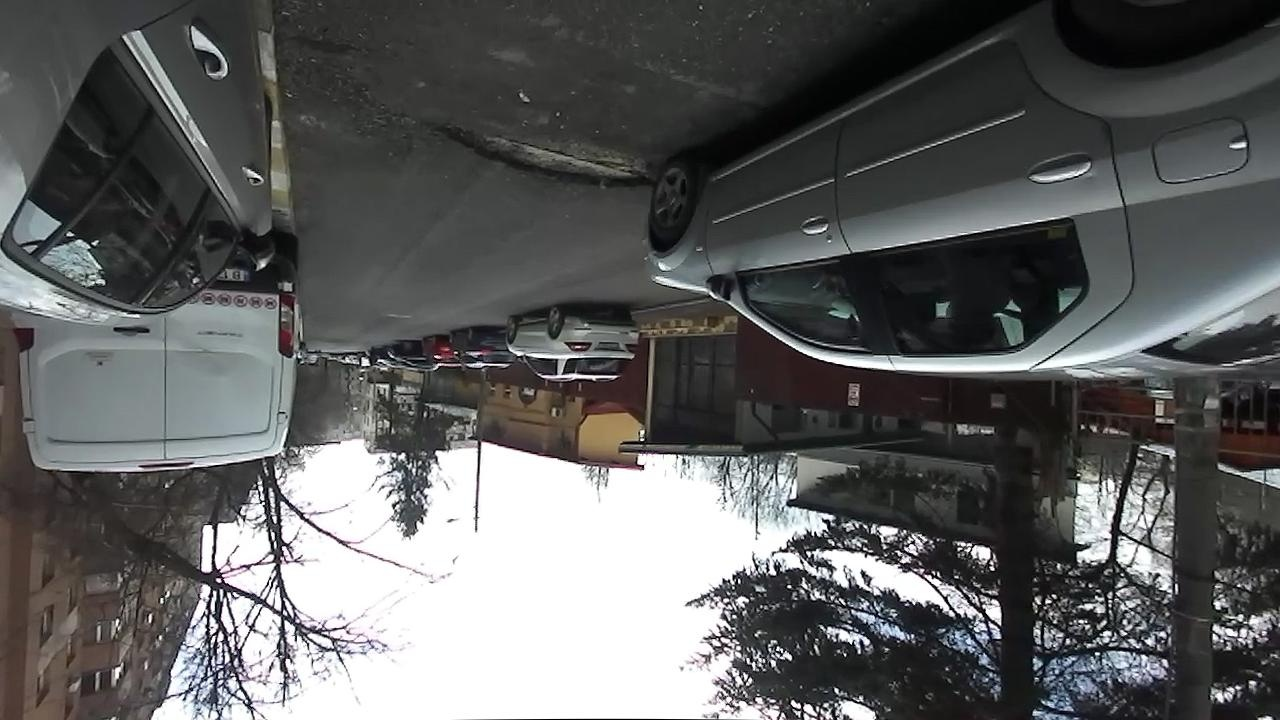pothole: (424, 119, 652, 192)
